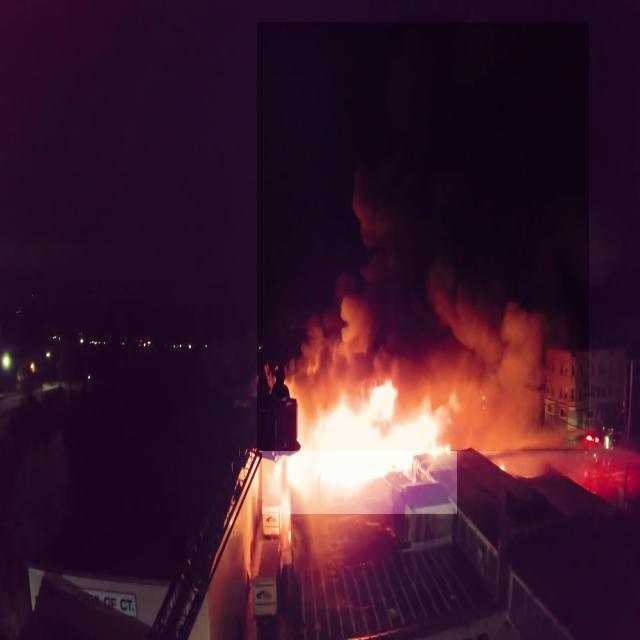Fire: (262, 376, 457, 514)
Smoke: (258, 22, 590, 451)
